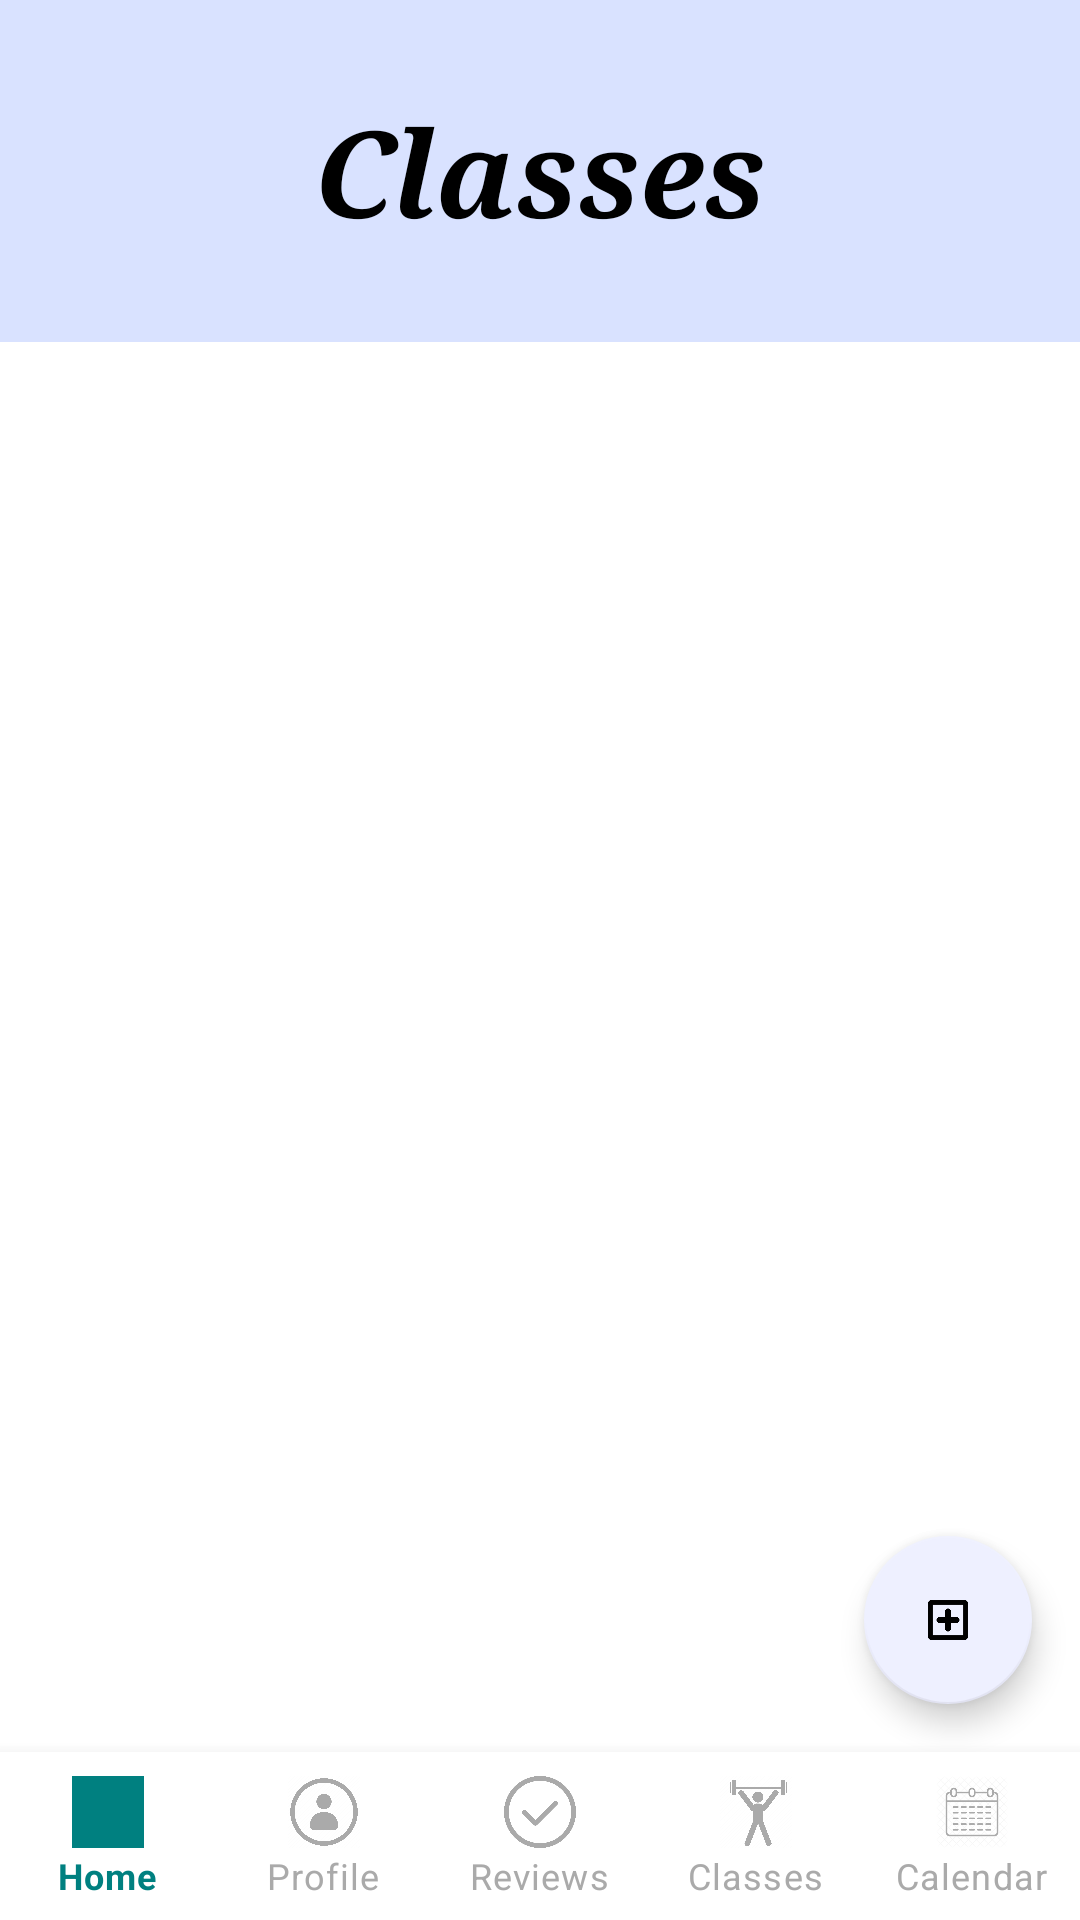

Where icons sit on this 1080w x 1920h app screen, as (x1, y1, x2, y2):
Add class: (864, 1536, 1032, 1704)
